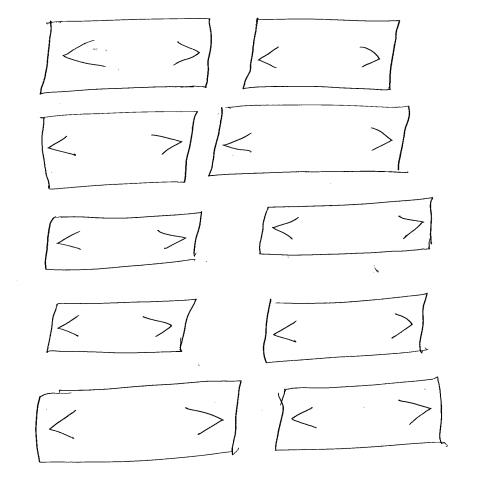Carousel: (35, 380, 242, 465), (208, 104, 412, 178), (36, 17, 216, 96), (40, 111, 200, 192), (274, 378, 445, 452), (263, 292, 429, 365), (241, 19, 402, 91), (258, 198, 435, 257), (44, 211, 204, 272), (45, 298, 197, 355)
